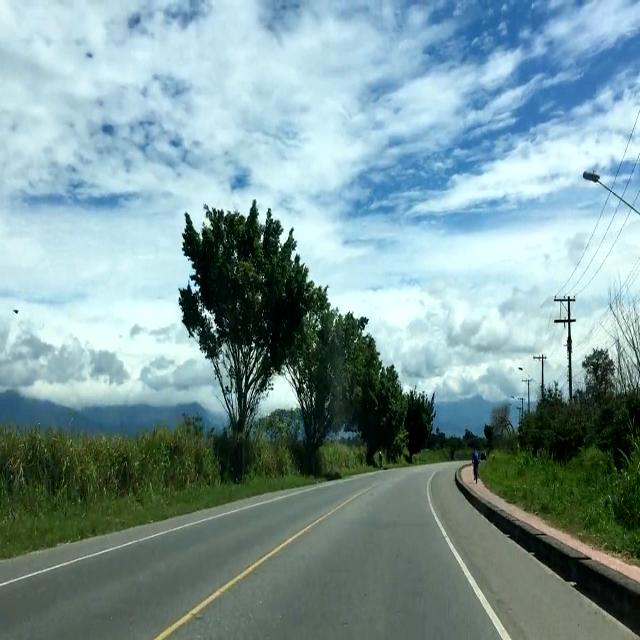lane: (154, 497, 354, 640), (1, 499, 282, 588), (428, 481, 514, 640)
road: (0, 462, 636, 638)
